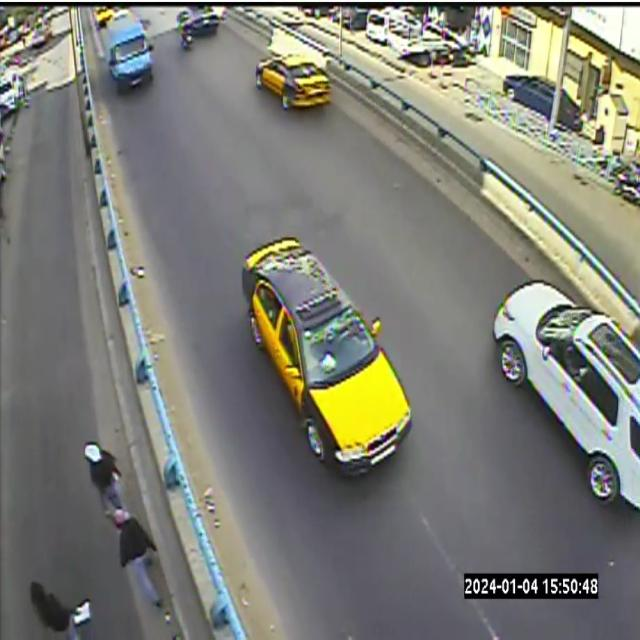car: (242, 237, 412, 472), (493, 281, 639, 509), (255, 42, 330, 109), (102, 11, 153, 91), (177, 5, 219, 37)
